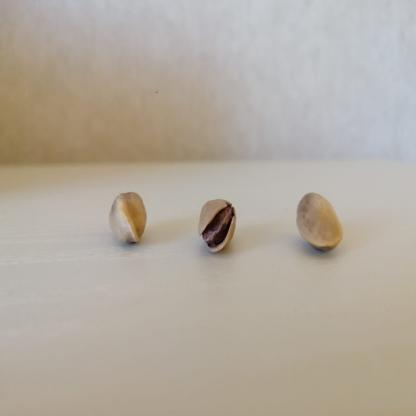pistachio: (284, 186, 353, 255), (190, 190, 244, 255), (107, 189, 157, 244)
